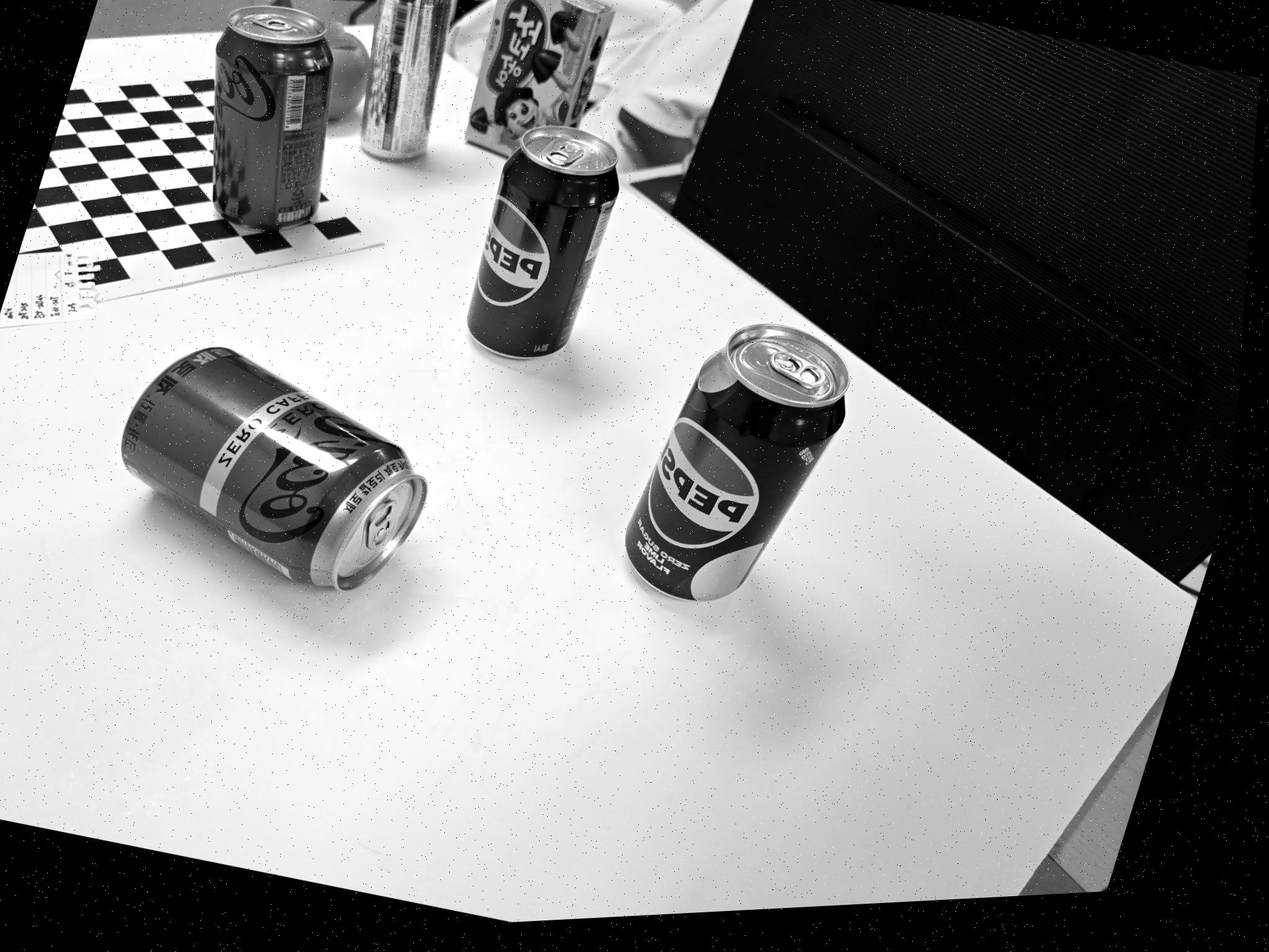can_coke_decaf: (122, 338, 428, 588)
can_pepsi: (462, 126, 622, 356)
can_pepsi_zero: (621, 324, 850, 605)
